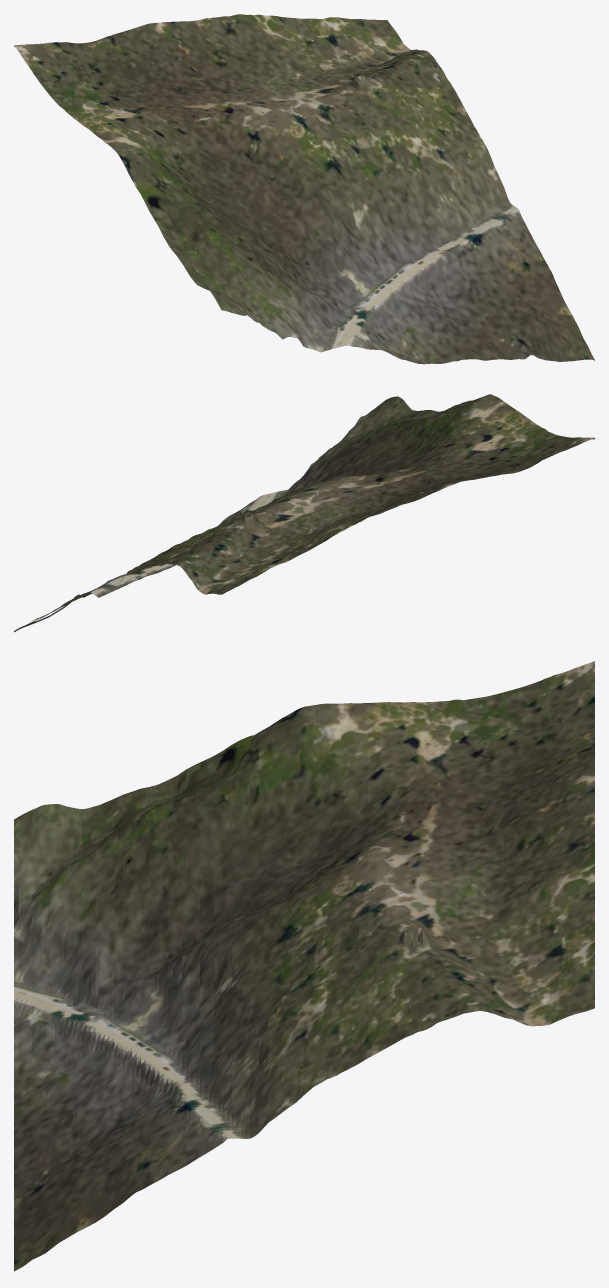
3 renders of one model, top to bottom at view 1: azimuth 30°, elevation 25°; view 2: azimuth 210°, elevation 25°; view 3: azimuth 270°, elevation 25°, orthographic. The views are drawn at different scales.
Size of the model in its own units: 250 by 163 by 241.
Materials: 1 (1 with a texture image).
